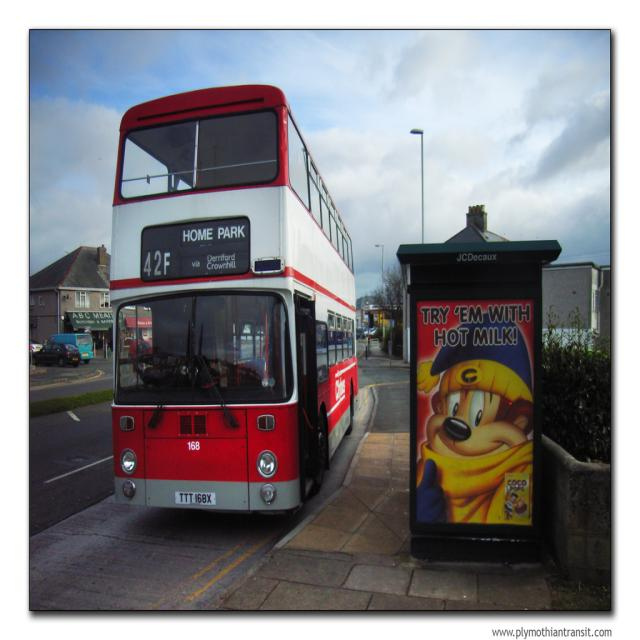car: (31, 342, 79, 368)
